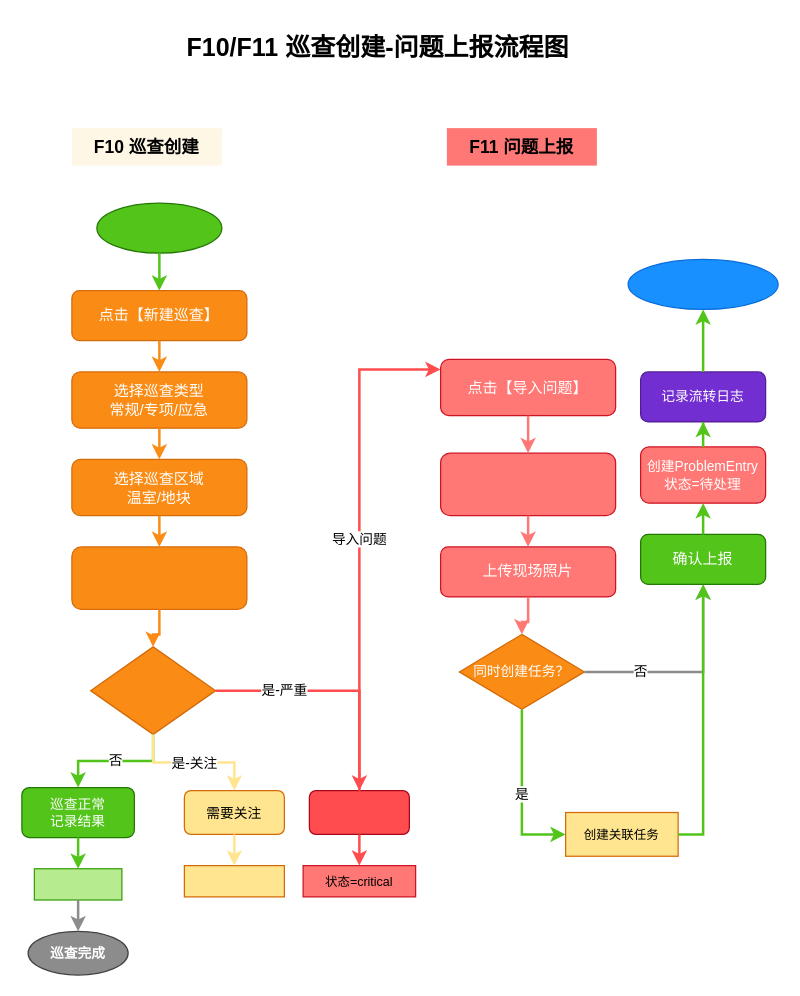
This 800x996 diagram has some shape labels left out. The centre of each missing label's shape, as x and y in pixels:
严重问题: point 358,811
发现异常？: point 152,690
填写问题描述 问题类型/严重程度: point 527,484
开始巡查: point 159,227
执行现场巡查 记录环境数据/作物状态: point 159,577
状态=attention: point 233,880
状态=normal: point 77,884
进入问题分派流程: point 702,283
